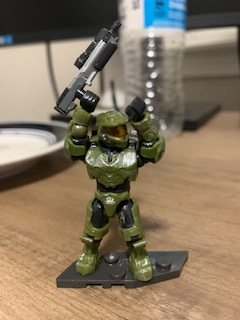chief: (61, 90, 167, 282)
spartan: (59, 88, 165, 280), (51, 20, 125, 116)
up: (63, 89, 167, 193)
